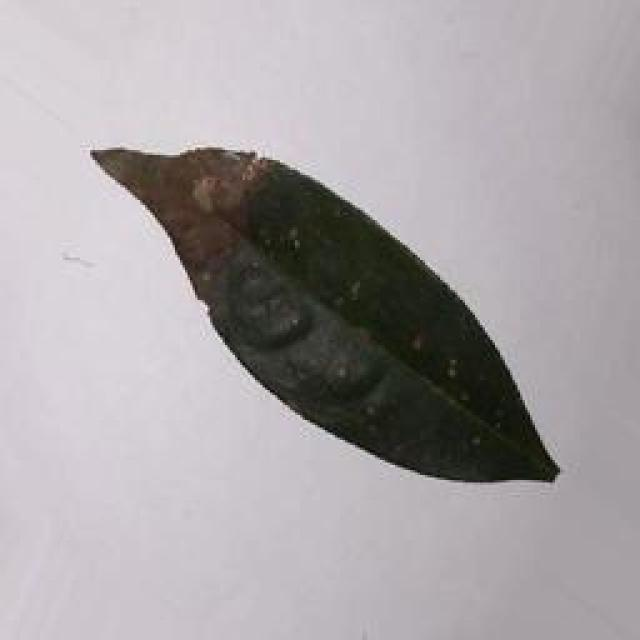Brown Blight: (80, 125, 584, 497)
